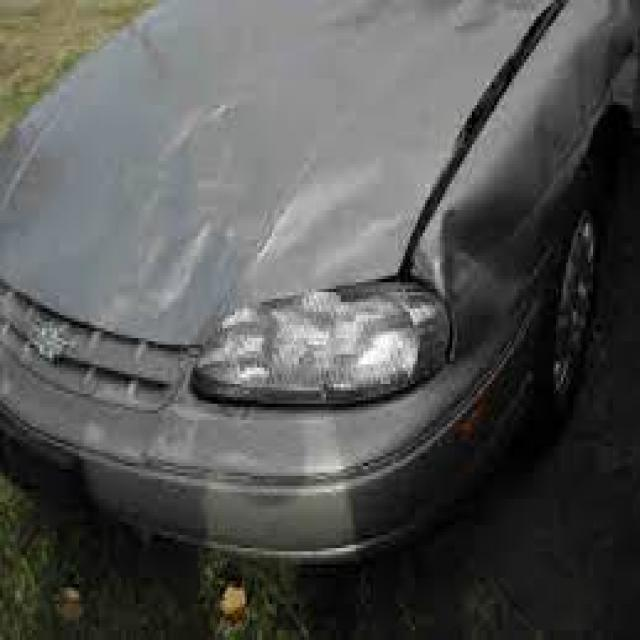minor: (2, 61, 496, 495)
